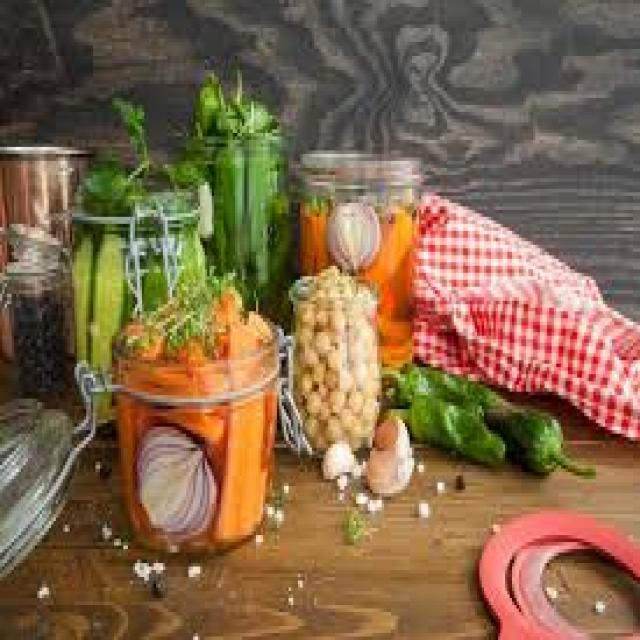organic waste: (391, 356, 598, 476), (212, 318, 260, 546), (132, 416, 216, 542), (296, 304, 372, 437), (133, 259, 221, 346), (380, 395, 500, 458), (244, 140, 282, 318), (188, 66, 274, 140), (90, 231, 126, 402), (138, 378, 224, 437), (12, 290, 61, 392), (210, 143, 244, 280), (121, 328, 144, 524), (324, 196, 379, 269), (363, 409, 410, 493), (138, 357, 224, 402), (175, 150, 214, 248), (165, 217, 205, 308), (72, 231, 91, 402), (196, 276, 242, 346), (375, 203, 412, 276), (114, 98, 149, 168), (140, 234, 168, 312), (84, 161, 140, 196), (319, 434, 363, 476), (144, 154, 207, 182), (300, 269, 363, 287), (377, 308, 407, 336), (246, 308, 268, 346), (377, 336, 410, 353), (374, 284, 388, 318), (366, 490, 386, 510), (542, 581, 559, 598), (426, 472, 442, 486), (419, 496, 428, 511), (414, 451, 424, 462), (335, 472, 342, 479)
